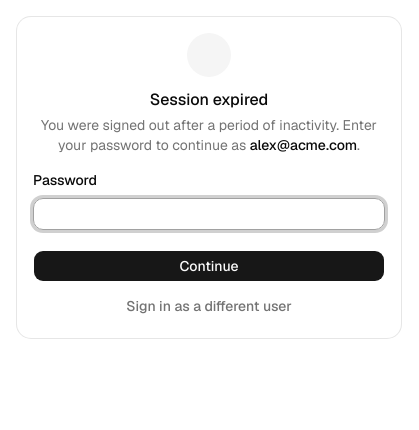
Test case: SessionExpired › errors on a wrong password
Type "nope" into the password field labelled "Password" at (195, 214), box 34,196 -> 357,232
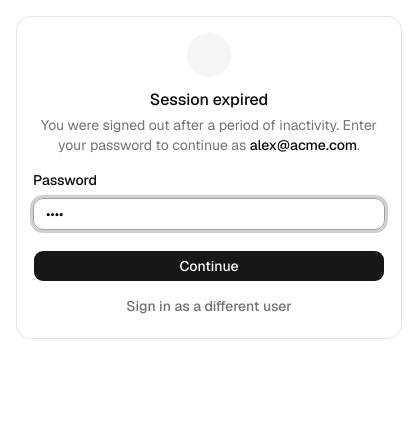
Click the button "Continue" at (209, 266), box 33,250 -> 385,282
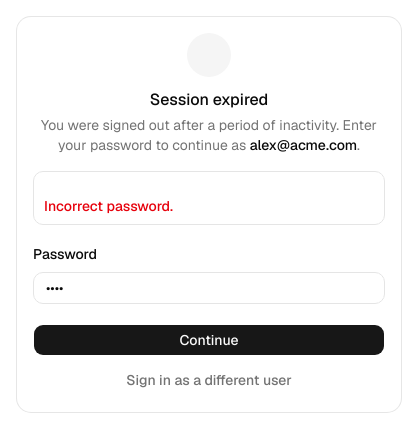
Expected: the text "Incorrect password." is shown, 44,197 -> 173,215
